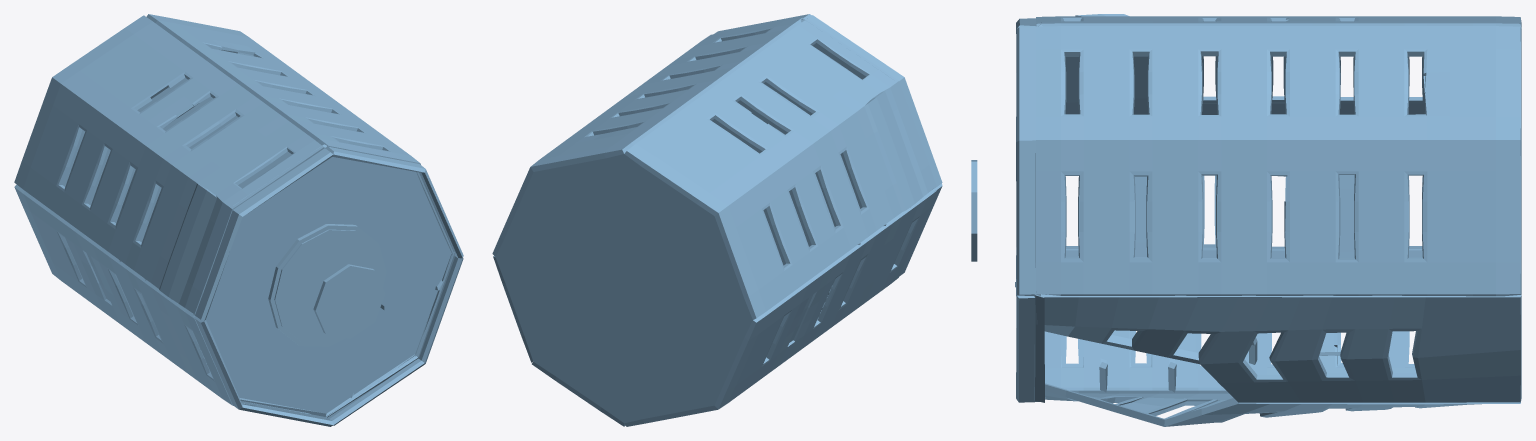
The model's file is tower_walls.obj.
The picture shows the model from 3 angles, left to right: view 1: azimuth 30°, elevation 25°; view 2: azimuth 150°, elevation 25°; view 3: azimuth 270°, elevation 25°; orthographic projection. The views are drawn at different scales.
Parts seen in each view (by area): view 1: Cylinder_wall; view 2: Cylinder_wall; view 3: Cylinder_wall.
Boxes of the visible parts, x1,y1,x2,y2 form: Cylinder_wall: (14,14,463,426); Cylinder_wall: (492,14,942,426); Cylinder_wall: (971,14,1521,426).
Bounding box in the file's own units: 0.6911 × 0.6854 × 0.9162.
